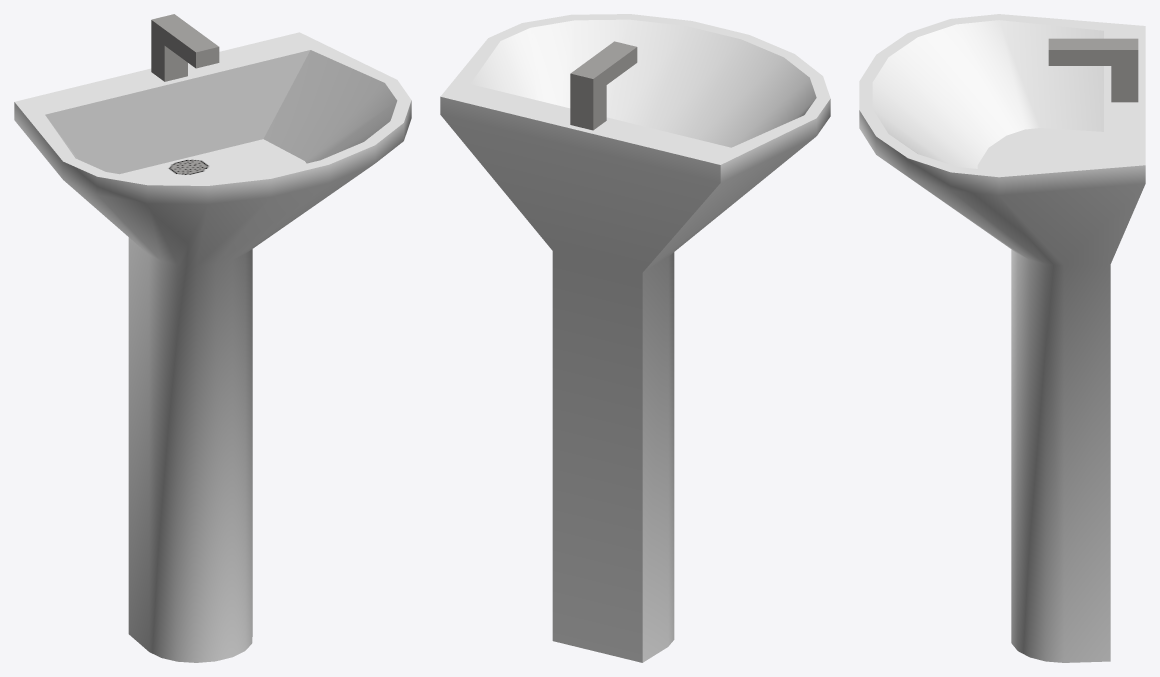
Rendered from sink.FBX.
The picture shows the model from 3 angles, left to right: view 1: azimuth 30°, elevation 25°; view 2: azimuth 150°, elevation 25°; view 3: azimuth 270°, elevation 25°; orthographic projection.
Parts seen in each view (by area): view 1: sink; view 2: sink; view 3: sink.
Part boxes in pixels (box(x1,y1,x2,y2)): sink: box(14, 14, 411, 662); sink: box(440, 14, 830, 662); sink: box(859, 14, 1145, 662).
Size of the model in its own units: 22.61 by 38.48 by 16.76.
